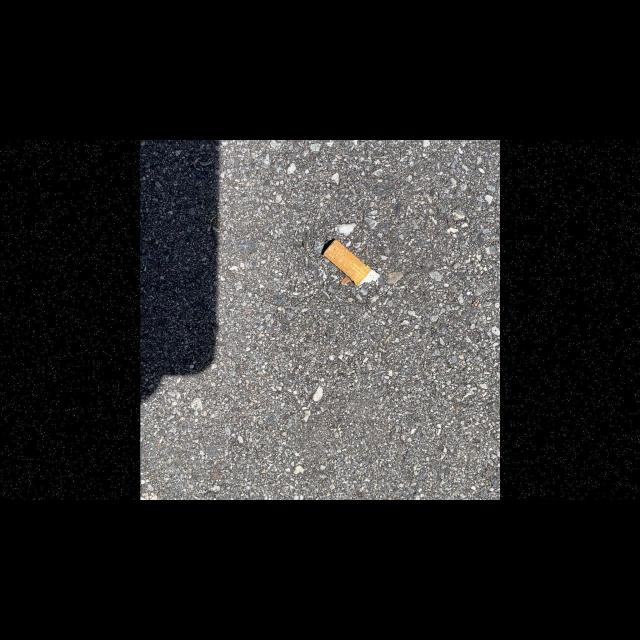cigarette: (322, 239, 380, 286)
